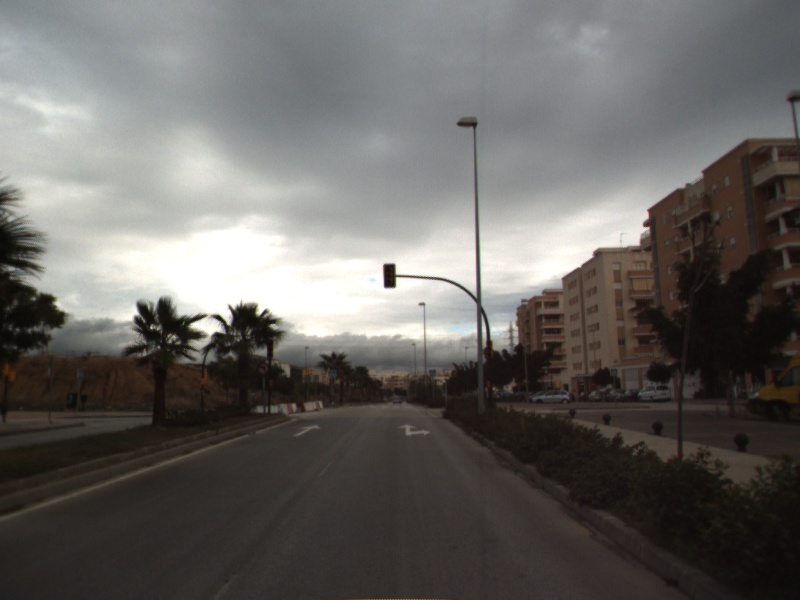STRAIGHT: (292, 422, 323, 438)
STRAIGHT_RIGHT: (396, 422, 432, 437)
